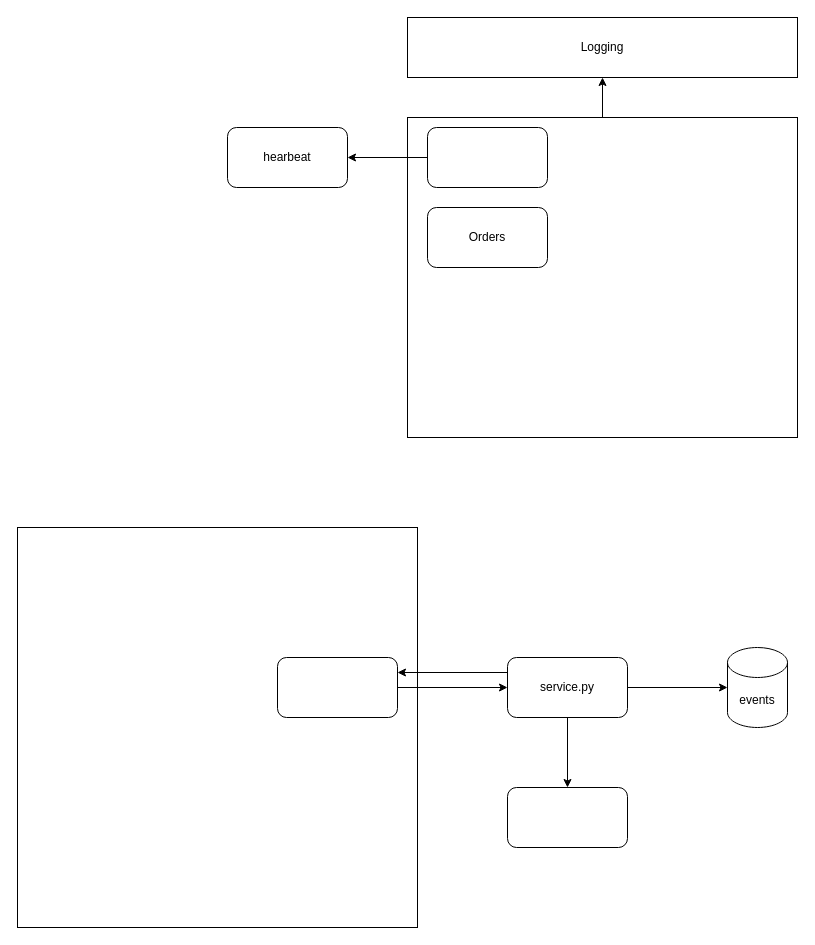
Image size: 815x945. Some labels were removed from this diagram. Each missing label, with the centre of its shape:
cli.py: pixel 337 687
Client: pixel 487 157
journal.py: pixel 567 817
